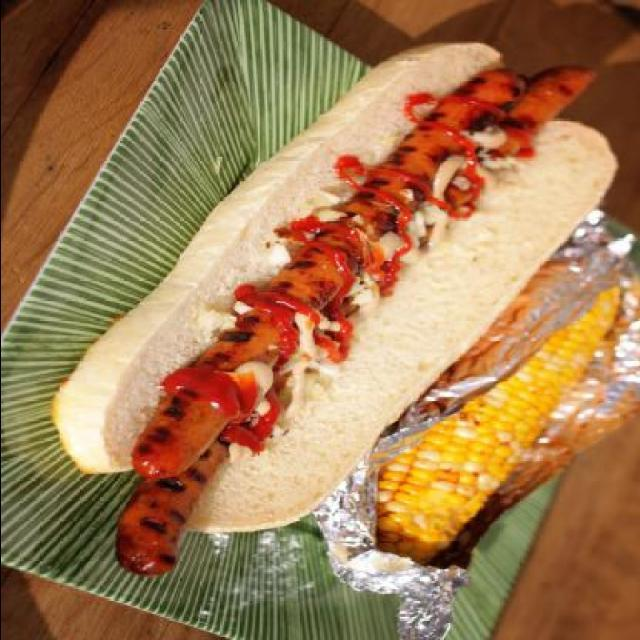Hot dog: (44, 32, 620, 578)
